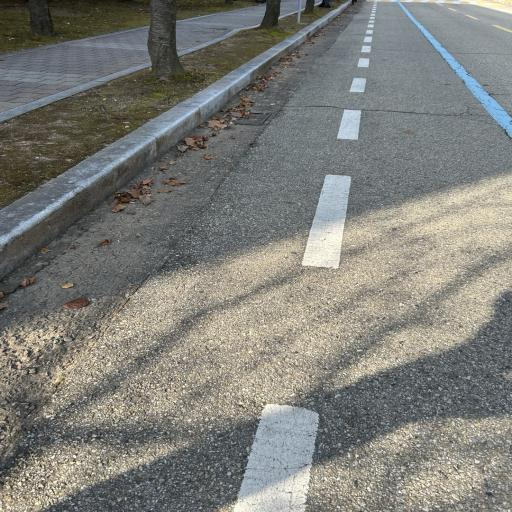debris: (240, 111, 247, 115)
drain: (218, 110, 268, 124)
